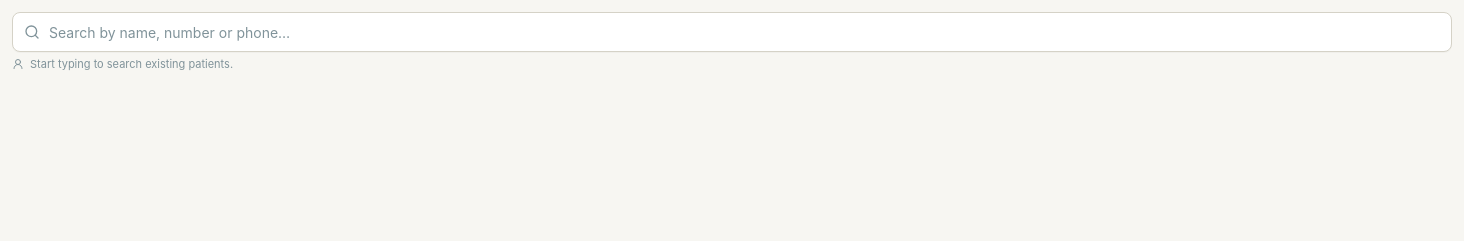
Test: patient combobox keyboard navigation › exposes active options via aria-activedescendant and selects with Enter
Later steps or results of the test are not shown.
In the dropdown: (732, 32) [12, 12, 1452, 52], type "Do"
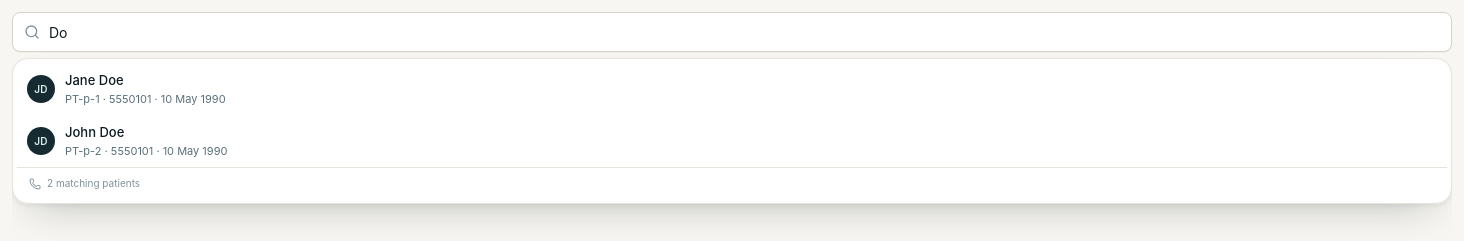
Expected: the number of options is 2, [17, 63, 1447, 115]; [17, 115, 1447, 167]
